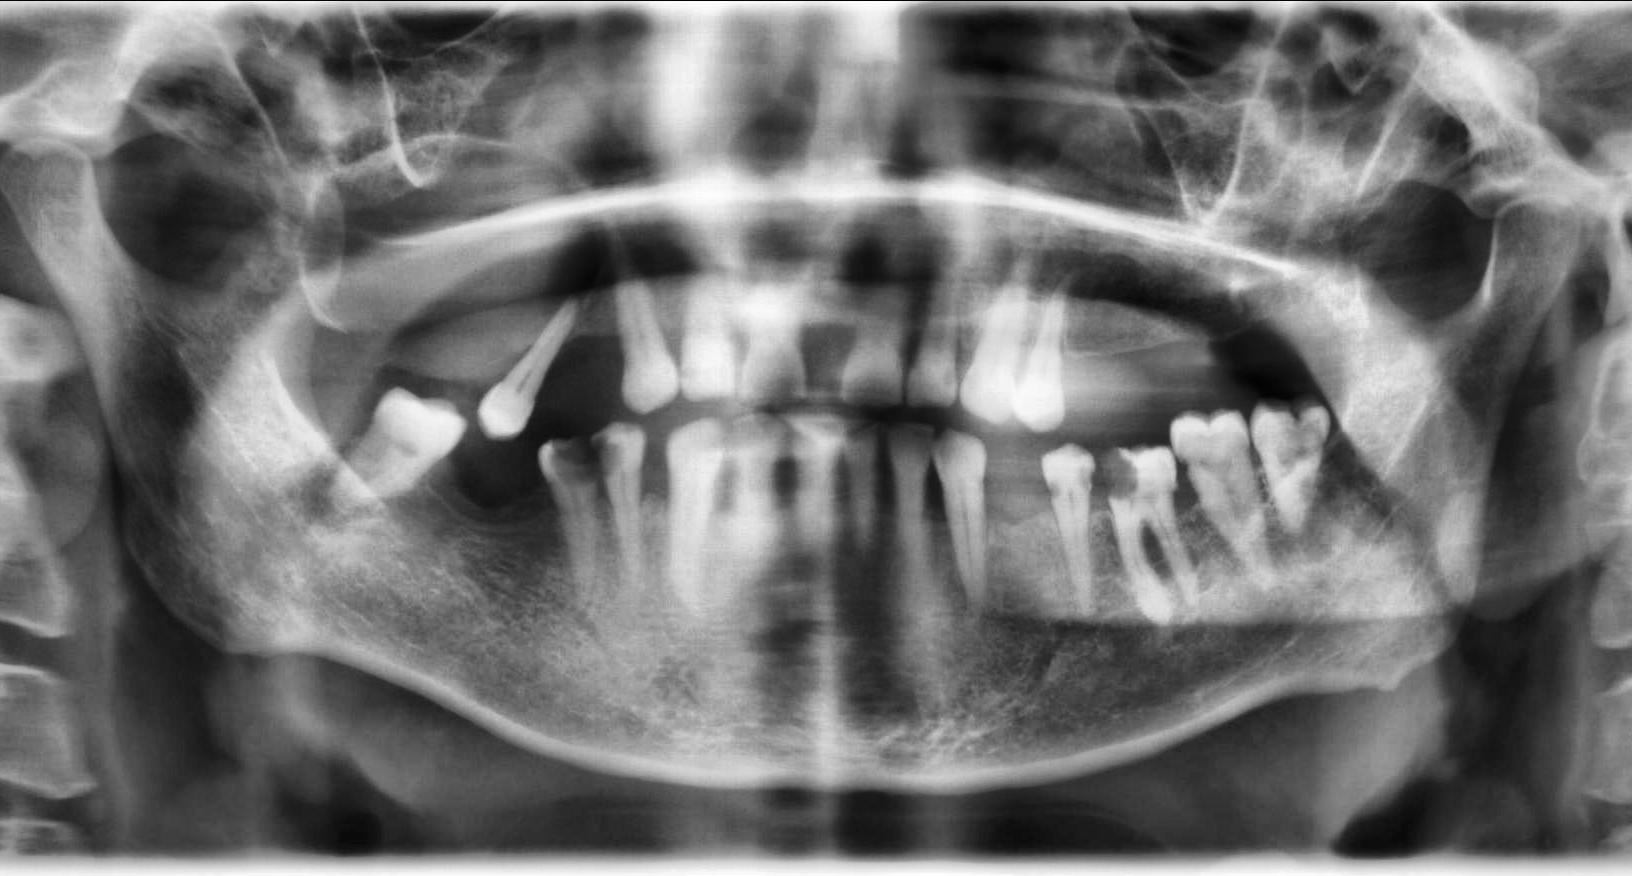keratokist: (297, 135, 614, 381)
